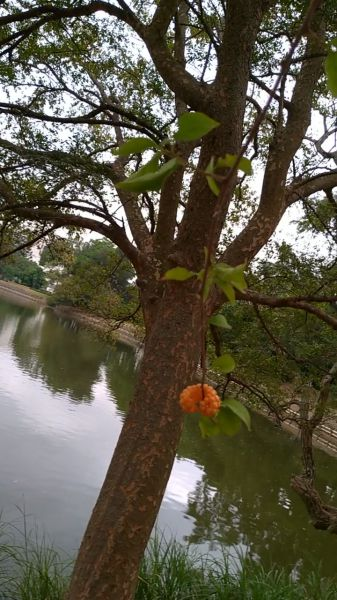eggs: (174, 374, 225, 423)
